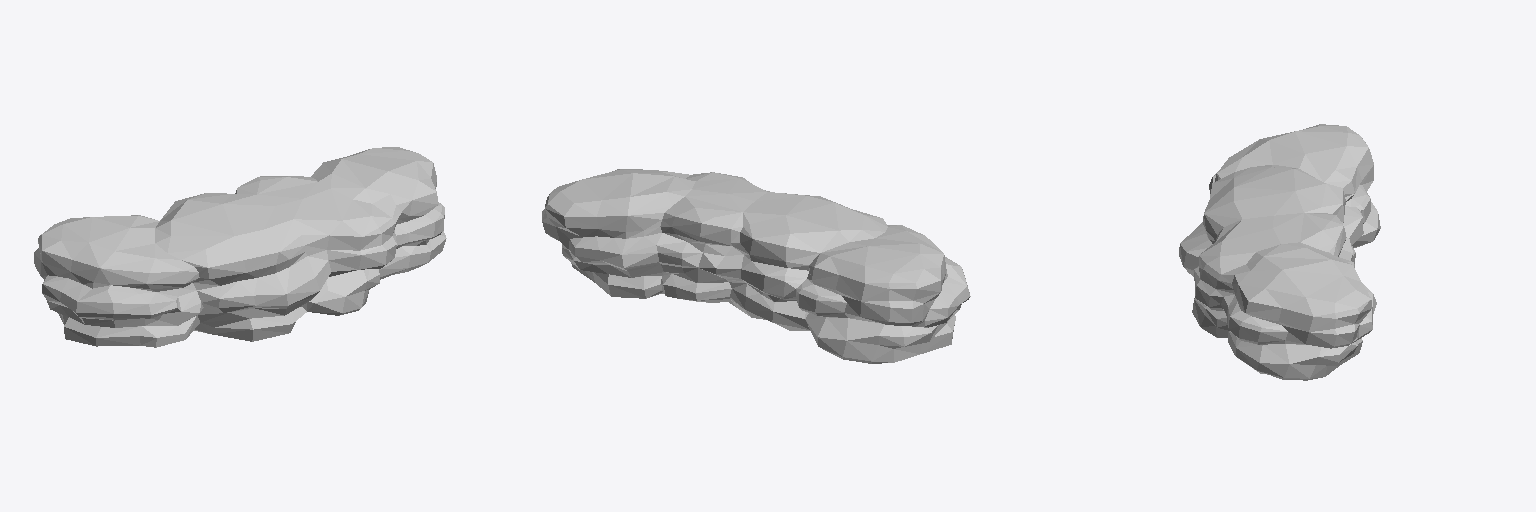
Rendered from Rock7.obj.
3 views of the same model, side by side, from view 1: azimuth 30°, elevation 25°; view 2: azimuth 150°, elevation 25°; view 3: azimuth 270°, elevation 25° (orthographic).
Visible parts, largest first — view 1: Rock7; view 2: Rock7; view 3: Rock7.
Part boxes in pixels (left/top/right/bottom): Rock7: left=34, top=147, right=446, bottom=347; Rock7: left=542, top=169, right=970, bottom=363; Rock7: left=1179, top=124, right=1380, bottom=380.
Bounding box in the file's own units: 198 × 50.55 × 87.93.